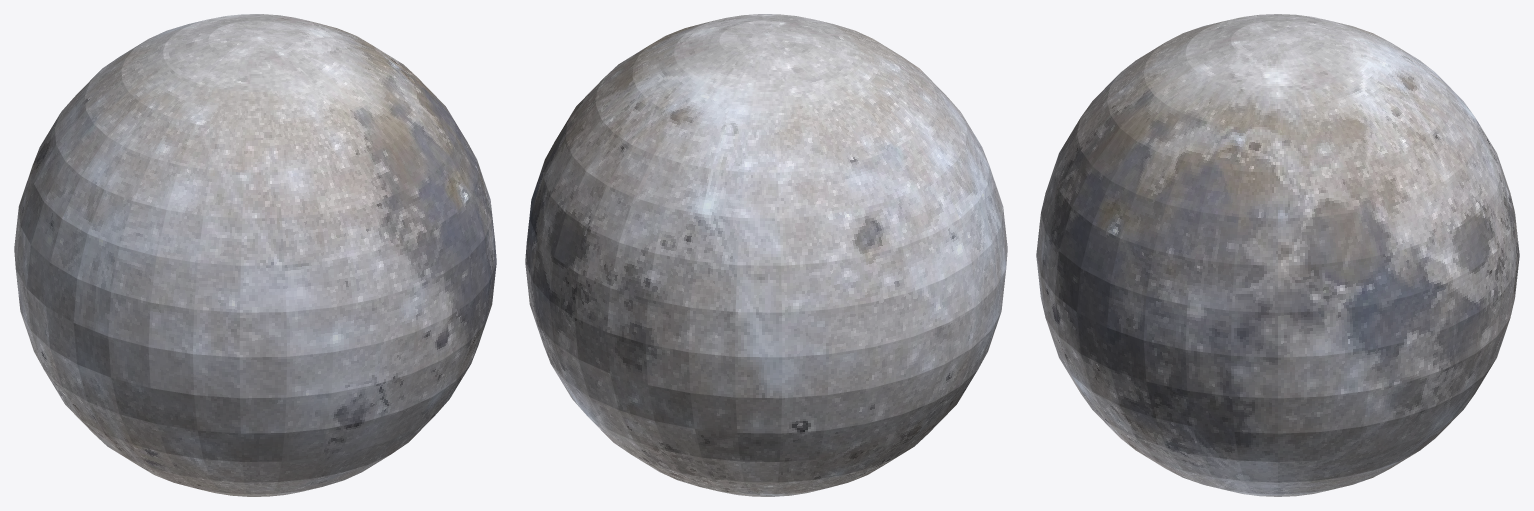
File: moon.glb
3 views of the same model, side by side, from view 1: azimuth 30°, elevation 25°; view 2: azimuth 150°, elevation 25°; view 3: azimuth 270°, elevation 25° (orthographic).
Parts seen in each view (by area): view 1: Sphere; view 2: Sphere; view 3: Sphere.
Part boxes in pixels (left/top/right/bottom): Sphere: left=14, top=14, right=496, bottom=496; Sphere: left=525, top=14, right=1007, bottom=496; Sphere: left=1036, top=14, right=1519, bottom=496.
Size of the model in its own units: 13.83 by 13.83 by 13.83.
4 materials, 3 textured.
